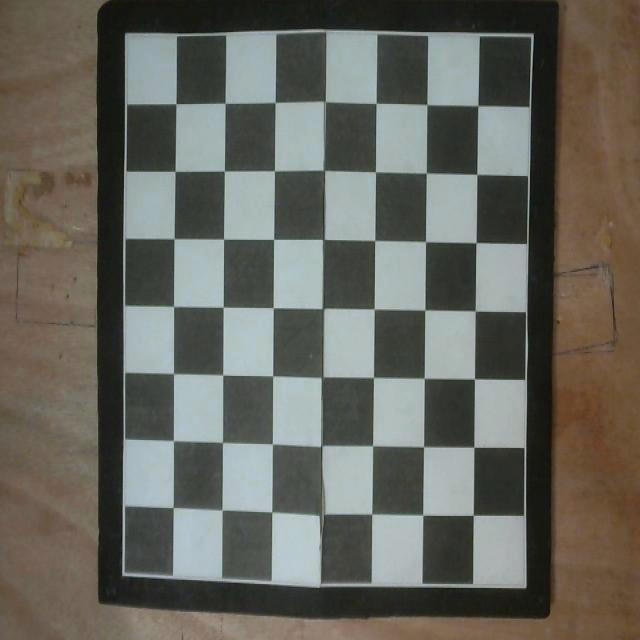chess-table-corners: (122, 29, 131, 41), (529, 31, 536, 46), (120, 568, 128, 580), (523, 582, 530, 592)
